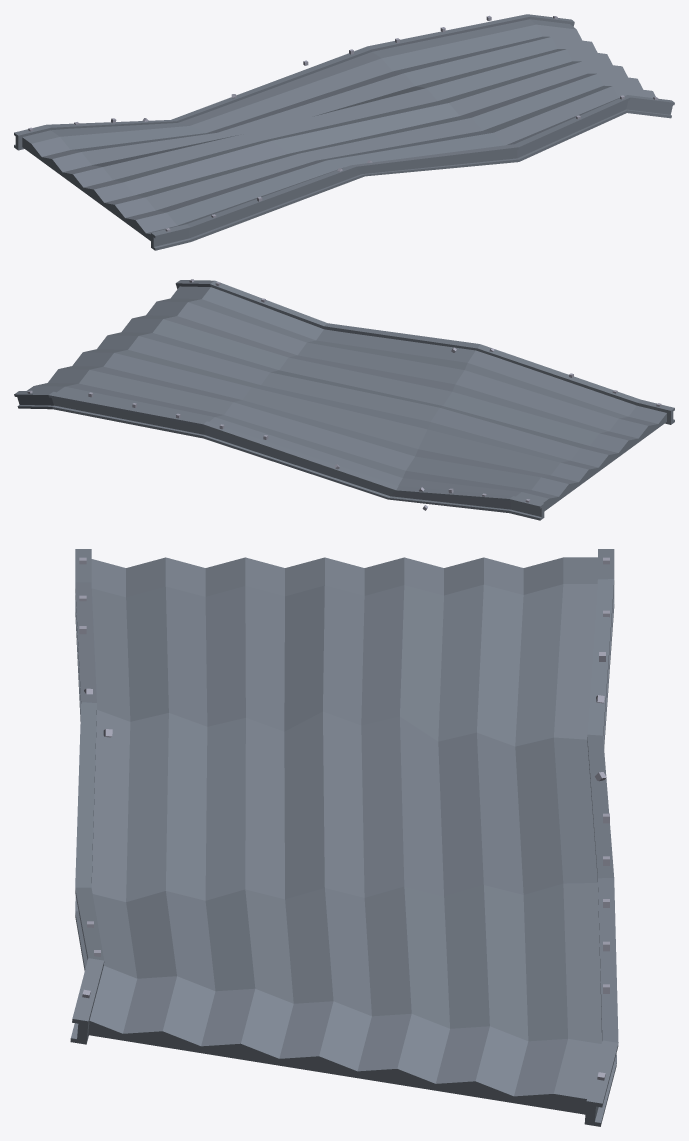
The model's file is Board01_009.fbx.
3 renders of one model, top to bottom at view 1: azimuth 30°, elevation 25°; view 2: azimuth 150°, elevation 25°; view 3: azimuth 270°, elevation 25°, orthographic. The views are drawn at different scales.
Parts seen in each view (by area): view 1: Board01.009; view 2: Board01.009; view 3: Board01.009.
Boxes of the visible parts, left/top/right/bottom form: Board01.009: left=14, top=14, right=674, bottom=250; Board01.009: left=14, top=279, right=674, bottom=520; Board01.009: left=70, top=549, right=618, bottom=1126.
Size of the model in its own units: 2.1 by 0.2301 by 0.9421.
